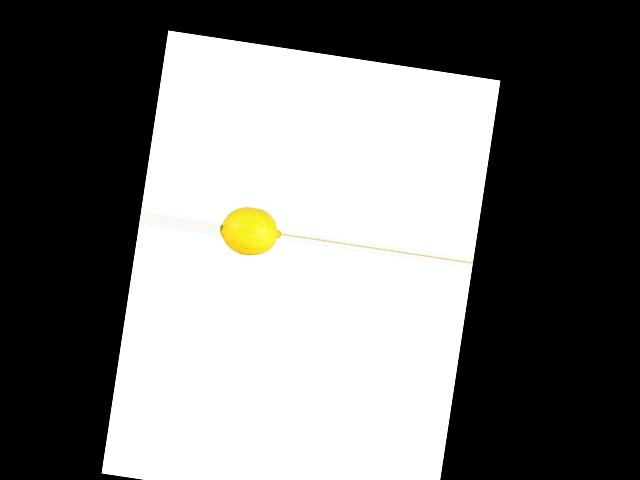lemon: (217, 203, 283, 259)
